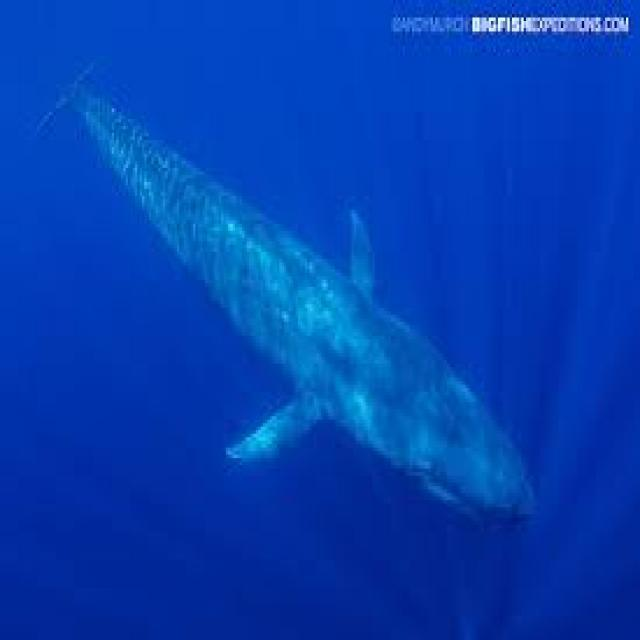blue_whale: (51, 59, 542, 570)
